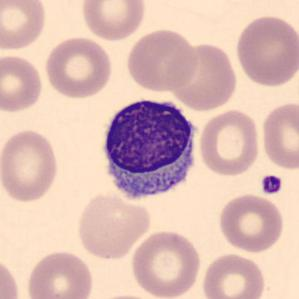Lymphocyte: (94, 91, 204, 206)
Platelets: (259, 173, 284, 196)
RBC: (74, 189, 152, 261), (128, 228, 204, 298), (167, 40, 240, 112), (124, 26, 200, 94), (233, 12, 298, 89), (42, 34, 115, 100), (0, 127, 62, 204), (196, 107, 262, 178), (216, 192, 286, 255), (23, 247, 95, 299), (200, 251, 267, 299), (259, 99, 299, 172), (79, 0, 148, 42), (0, 53, 45, 114), (0, 0, 48, 52), (0, 253, 22, 299), (90, 292, 164, 299)
